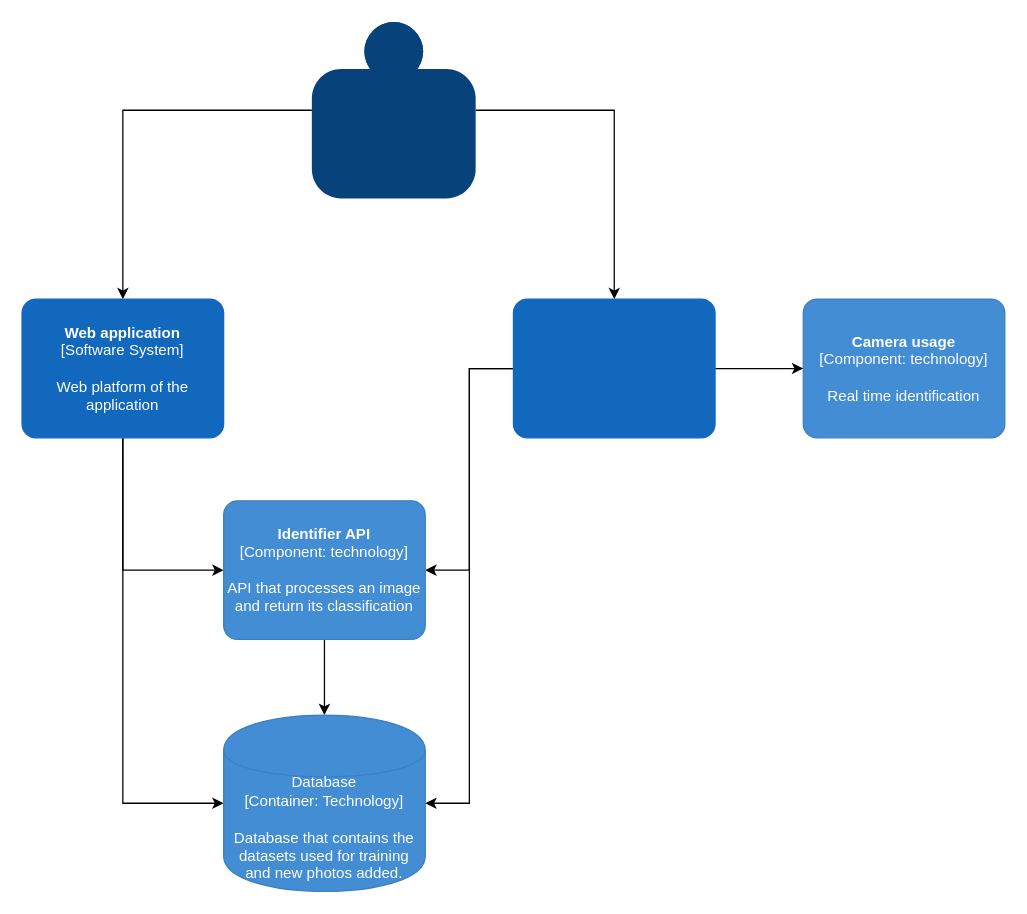
Some shapes in this 1027 by 914 pixel diagram are drawn without their labels. The shapes that lost their labels are listed below. From the top down, each one's centre as x and y in pixels, then its label:
At point (393, 109): "Customer [Person] a customer of the app".
At point (613, 368): "Mobile application [Software System] Mobile platform of the application".
